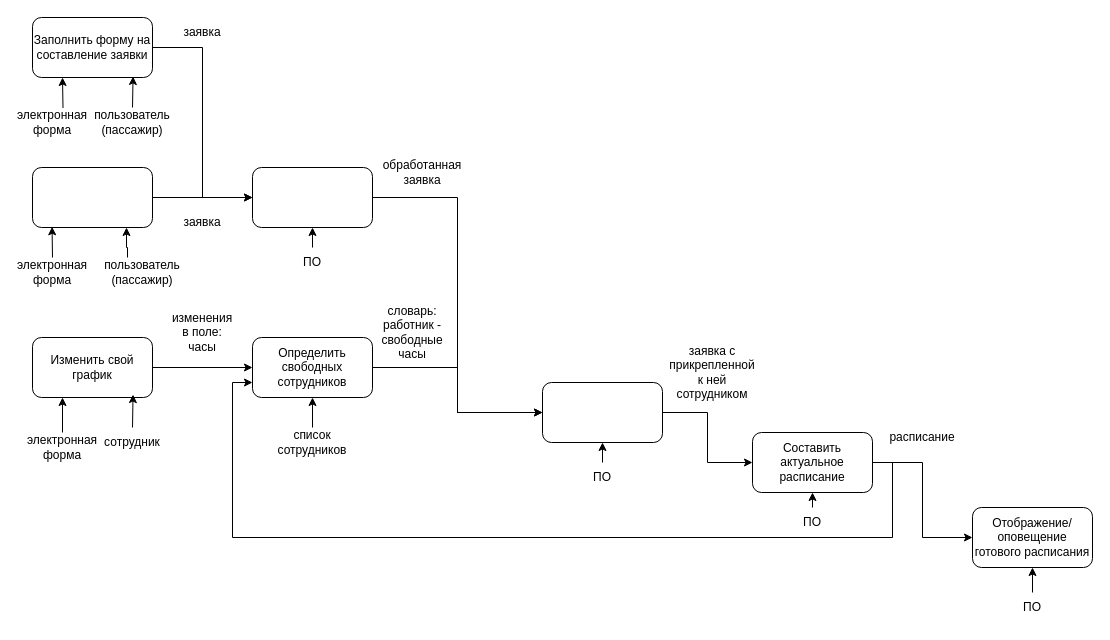
This 1110x640 diagram has some shape labels left out. The shapes that lost their labels are listed below. From the top down, each one's centre as x and y in pixels, then its label:
At (x=92, y=197): "Заполнить форму на отмену заявки".
At (x=312, y=197): "Обработать заявку".
At (x=602, y=412): "Назначить/отменить заявку на сотрудника".
